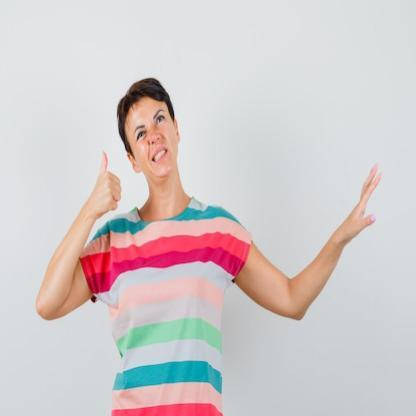thumb_up: (90, 147, 123, 217)
